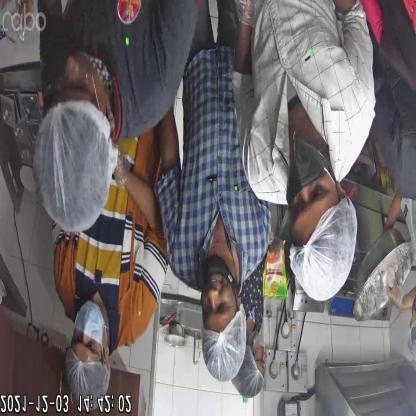no_apron: (163, 36, 272, 287), (246, 0, 373, 199), (52, 124, 161, 337)
